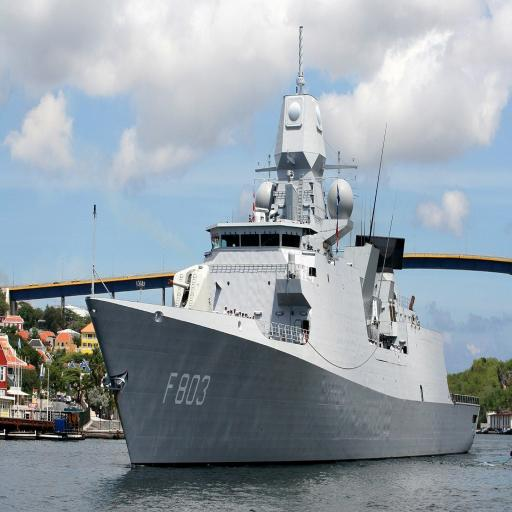Fragata: (1, 19, 330, 477)
